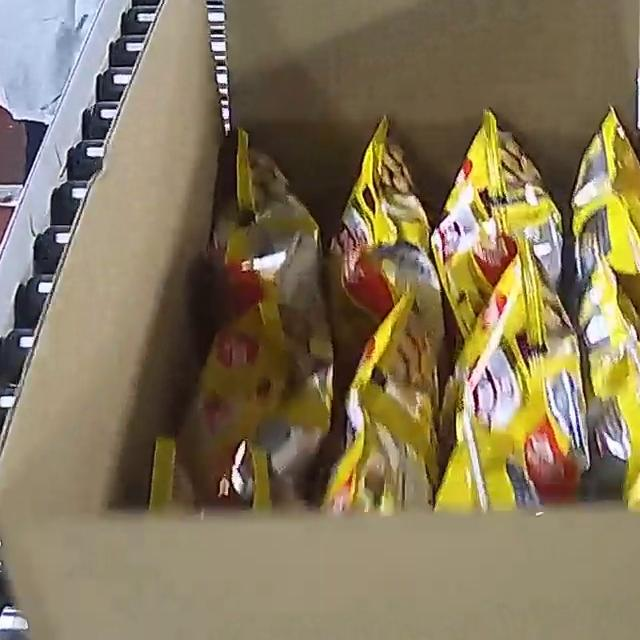salted: (164, 103, 640, 515)
